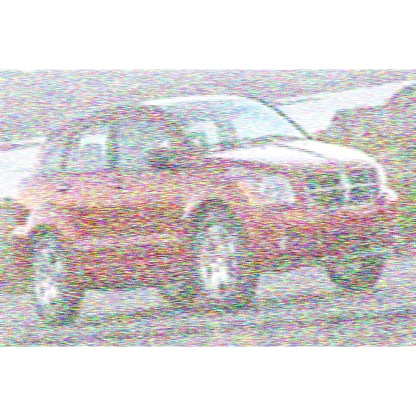Vehicle: (13, 97, 400, 328)
